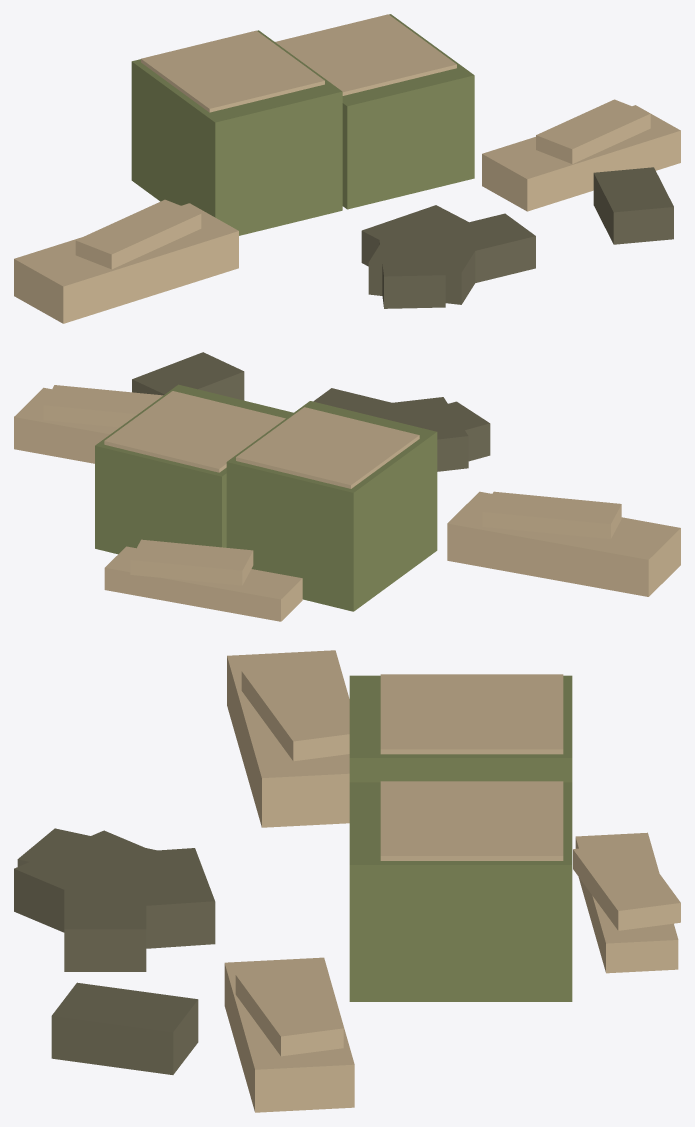
Rendered from SM_HescoCorto2_v3_RemateSacos_e2_MuyDanado_LOD1.fbx.
3 renders of one model, top to bottom at view 1: azimuth 30°, elevation 25°; view 2: azimuth 150°, elevation 25°; view 3: azimuth 270°, elevation 25°, orthographic. The views are drawn at different scales.
Parts seen in each view (by area): view 1: SM_hesco_piezas_v74_LOD1; view 2: SM_hesco_piezas_v74_LOD1; view 3: SM_hesco_piezas_v74_LOD1.
Boxes of the visible parts, x1,y1,x2,y2 form: SM_hesco_piezas_v74_LOD1: (14, 14, 680, 323); SM_hesco_piezas_v74_LOD1: (14, 352, 680, 621); SM_hesco_piezas_v74_LOD1: (14, 650, 680, 1112).
Bounding box in the file's own units: 5.36 × 0.988 × 3.66.
